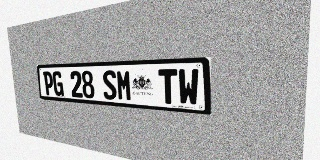2: (70, 71, 83, 98)
8: (81, 70, 95, 98)
G: (52, 71, 64, 96)
M: (116, 70, 132, 101)
P: (43, 71, 54, 96)
S: (102, 70, 117, 100)
T: (158, 69, 178, 104)
W: (178, 68, 199, 106)
